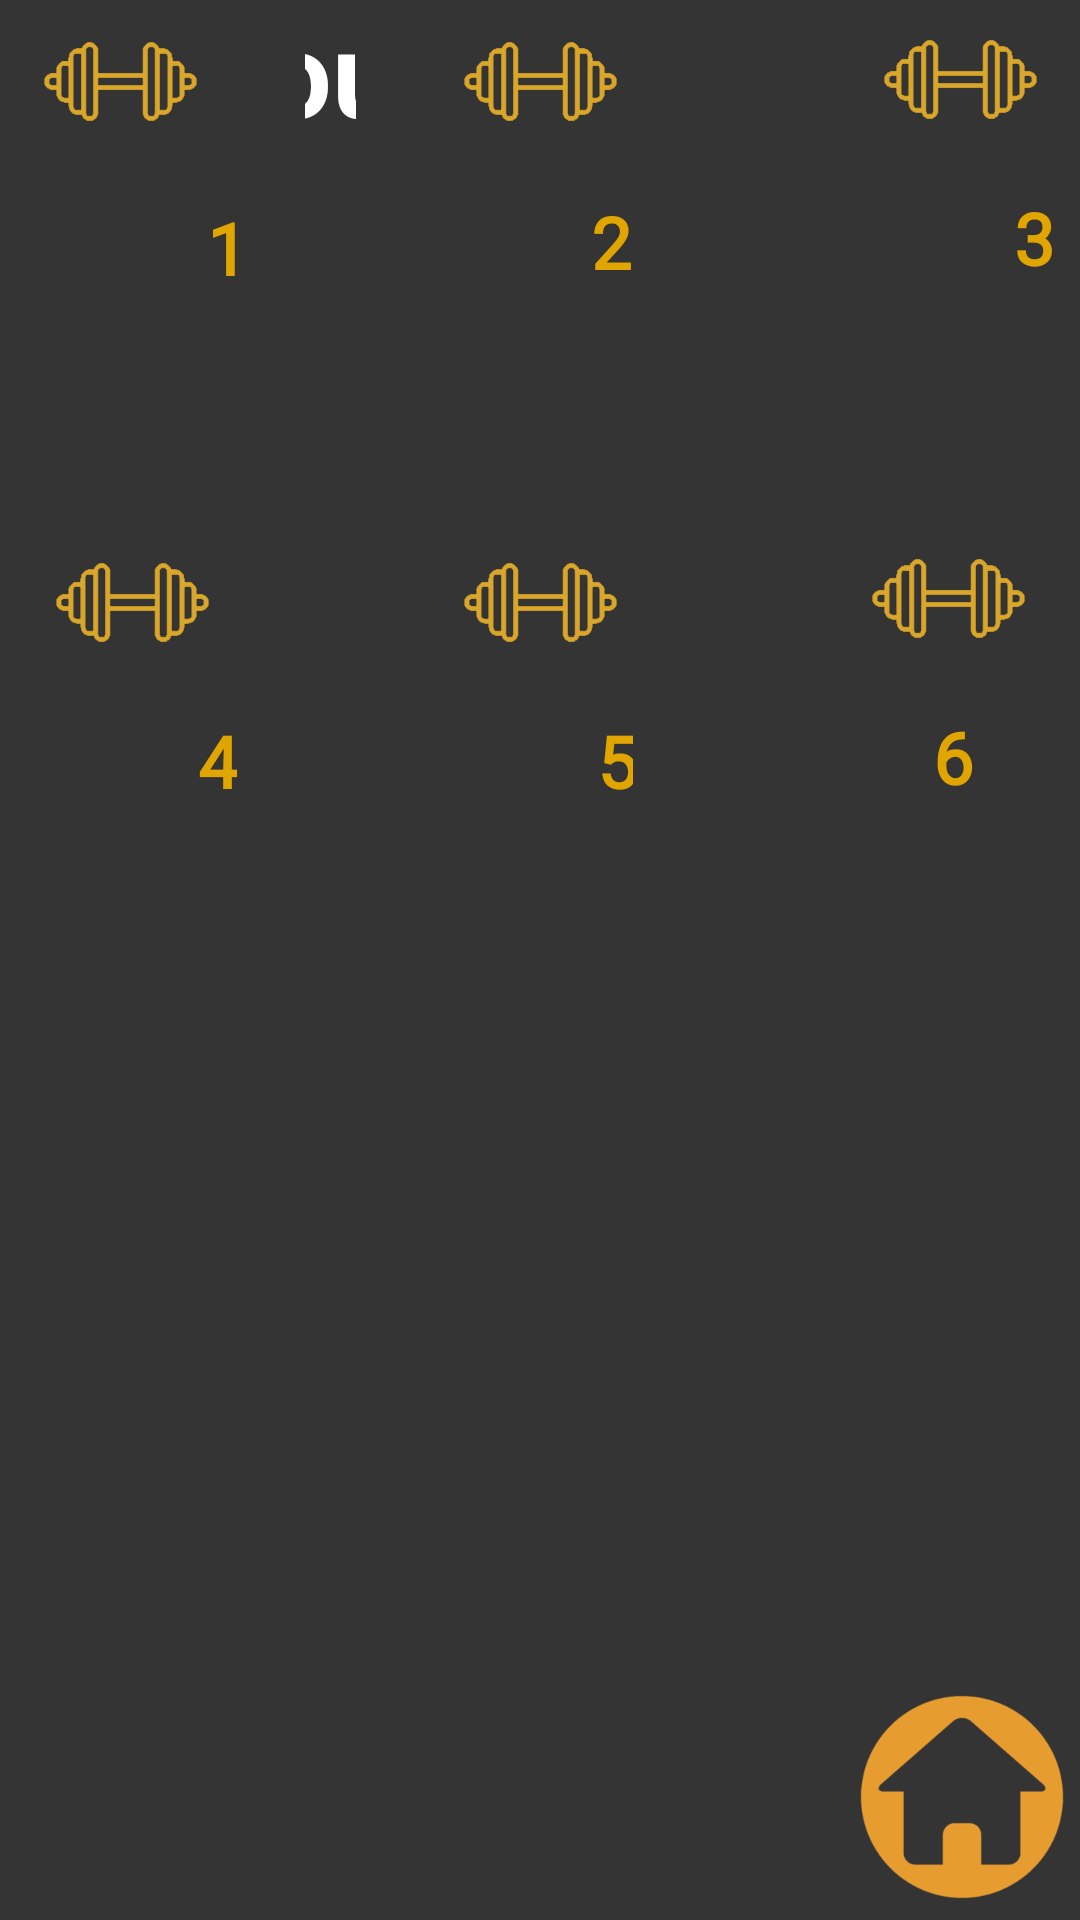

Where to tap for icons on this 1080 x 1920 app screen, as point (x, y):
house: point (962, 1797)
